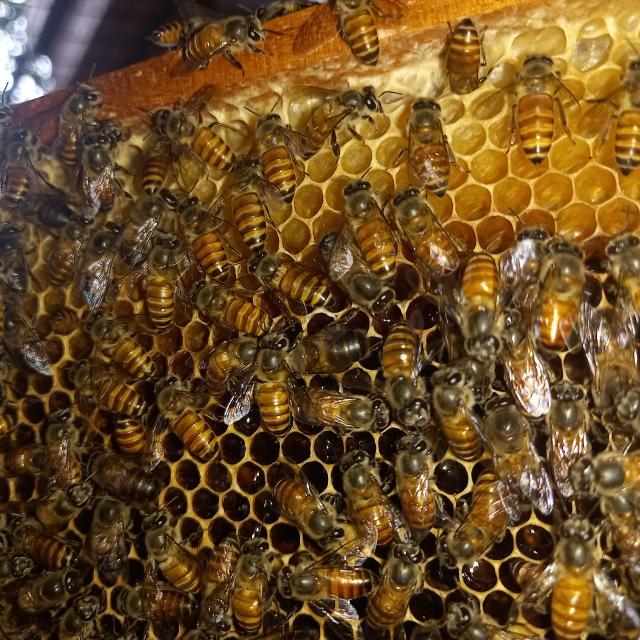honeybee: (508, 44, 574, 180), (480, 383, 543, 516), (402, 86, 472, 203), (535, 218, 586, 353), (298, 80, 382, 160), (314, 0, 402, 68), (390, 180, 455, 272), (153, 373, 214, 469), (457, 239, 504, 358), (371, 546, 432, 636), (150, 96, 240, 156), (197, 274, 268, 350), (335, 445, 388, 546), (448, 458, 498, 564), (338, 179, 397, 268), (245, 248, 335, 304), (303, 384, 397, 437), (86, 482, 140, 574), (41, 74, 90, 175), (599, 52, 640, 172), (177, 196, 234, 282), (552, 518, 592, 640), (275, 558, 372, 607), (546, 383, 598, 474), (439, 15, 491, 105), (140, 504, 195, 589), (582, 304, 634, 393), (505, 210, 545, 324), (393, 438, 439, 536), (187, 18, 267, 74), (33, 408, 81, 496), (232, 536, 278, 624), (270, 472, 334, 535), (109, 576, 204, 618), (222, 158, 264, 250), (30, 193, 102, 245), (256, 335, 295, 429), (19, 518, 88, 571), (557, 450, 640, 494), (76, 119, 116, 210), (84, 307, 138, 374), (248, 112, 292, 192), (448, 604, 545, 640), (82, 458, 173, 496), (595, 565, 640, 640), (602, 229, 640, 317), (0, 304, 47, 374), (72, 364, 140, 412), (131, 136, 174, 204), (146, 239, 180, 324), (0, 120, 38, 194), (202, 524, 239, 598), (594, 502, 640, 560), (46, 216, 81, 287), (0, 218, 26, 311), (62, 587, 105, 640), (110, 410, 147, 455), (142, 8, 183, 44), (246, 4, 314, 22), (48, 306, 76, 339)
